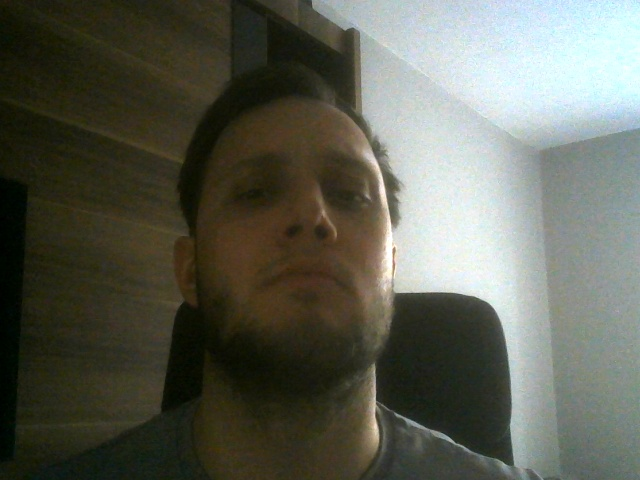angry: (171, 67, 397, 370)
